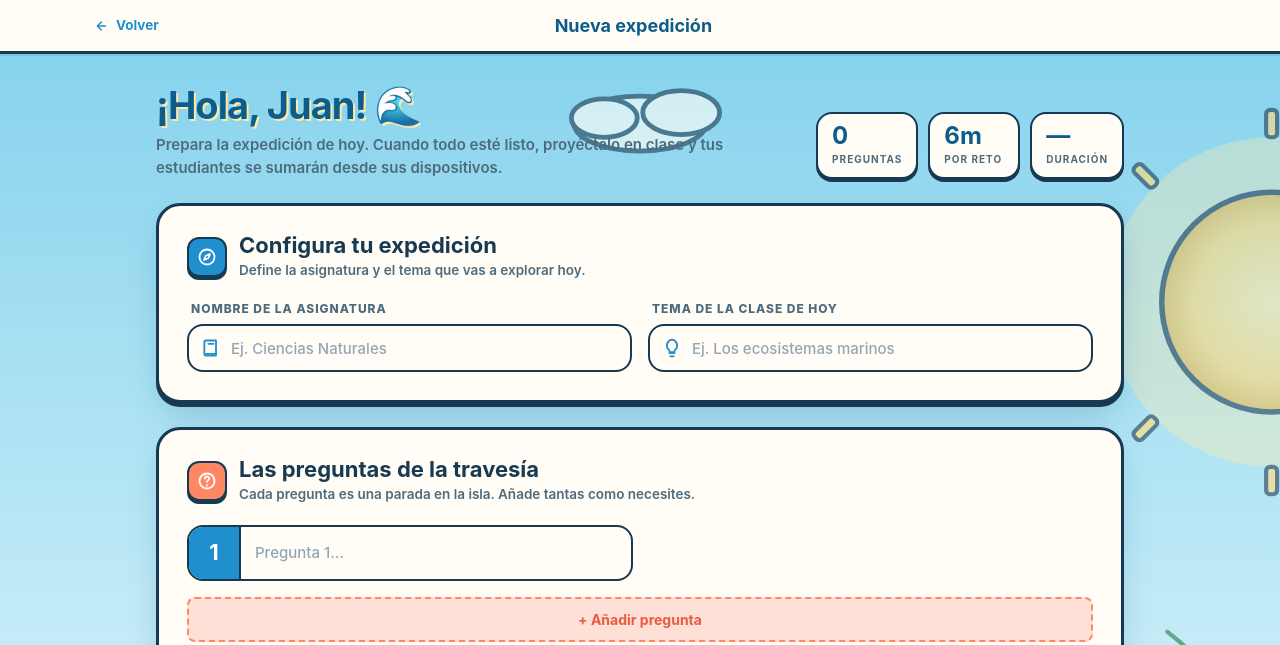
Test case: NewSession › botón Añadir pregunta agrega nuevo campo
This screenshot has width=1280, height=645.
Click the button "+ Añadir pregunta". click: (640, 619)
box: top-left (187, 596), bottom-right (1093, 642)
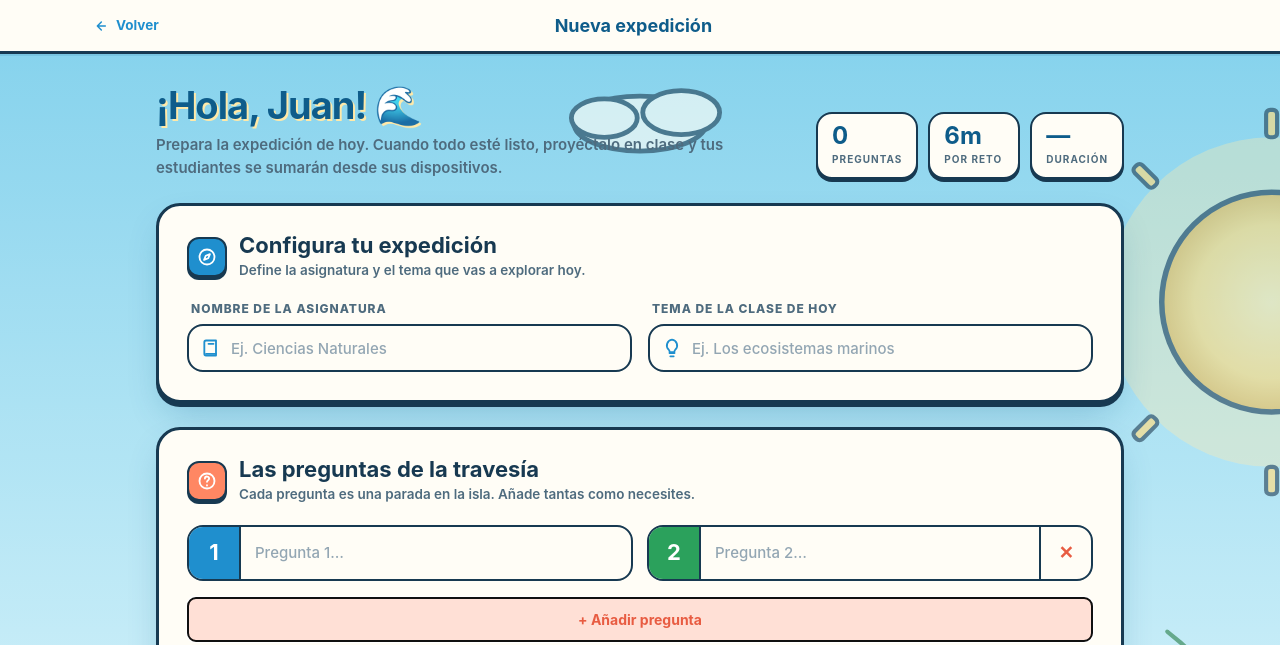
Expected: the number of fields with placeholder "Pregunta 1…" is 2, top-left (241, 526), bottom-right (631, 578); top-left (701, 526), bottom-right (1039, 578)
